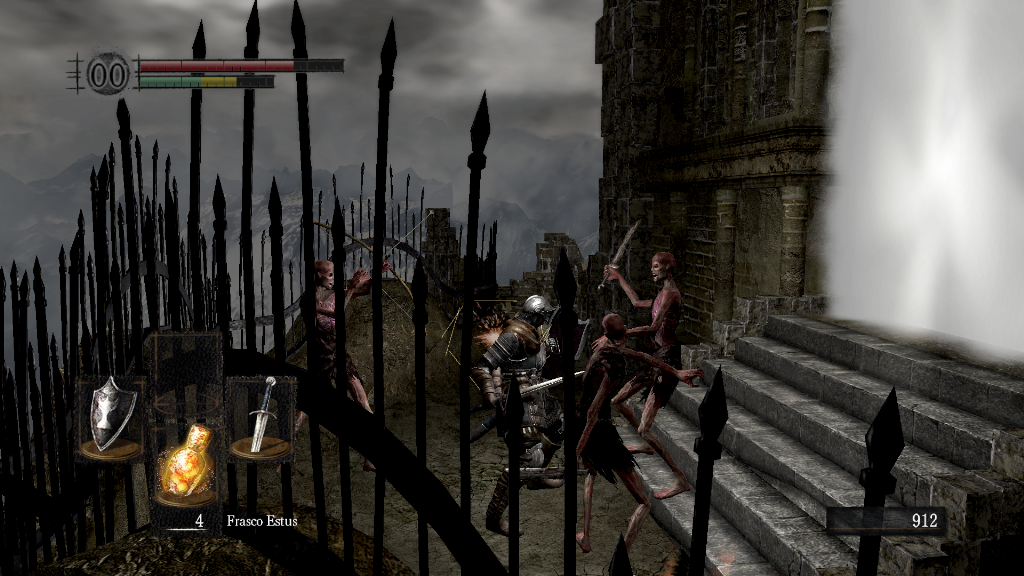health: (138, 58, 343, 71)
hollow: (580, 314, 704, 572), (595, 220, 689, 498), (291, 217, 384, 478)
humanity: (80, 45, 136, 102)
player: (475, 295, 591, 537)
souls: (825, 506, 945, 536)
stamina: (138, 74, 274, 88)
